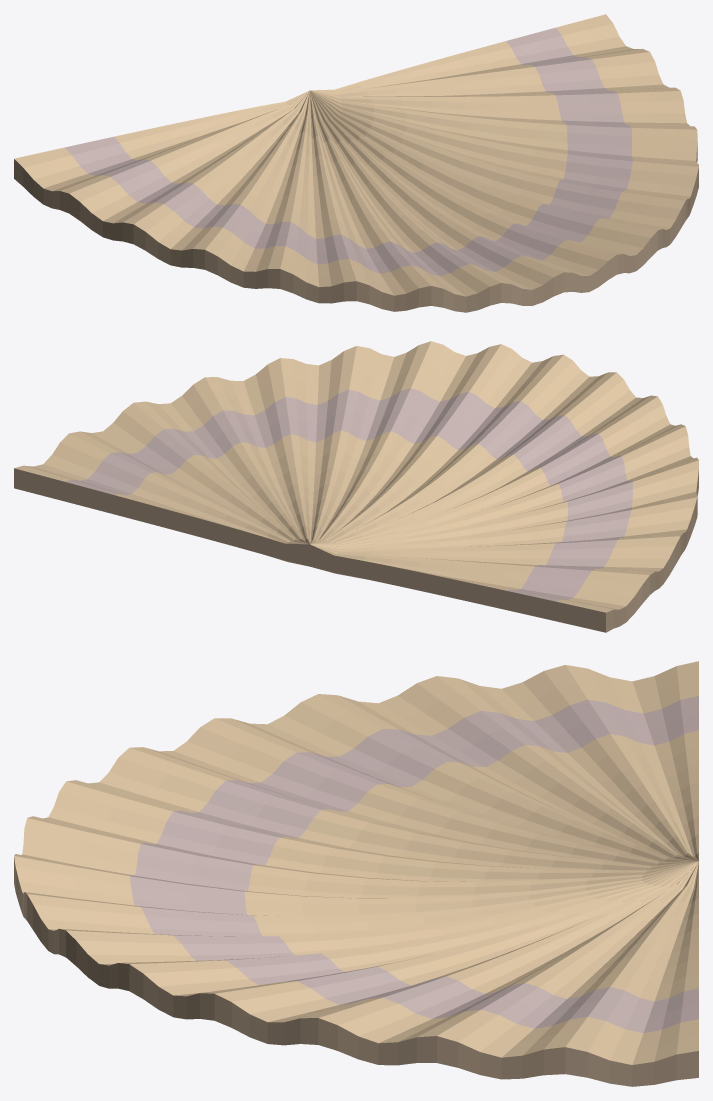
Rendered from strophomena.glb.
3 views of the same model, one above another, from view 1: azimuth 30°, elevation 25°; view 2: azimuth 150°, elevation 25°; view 3: azimuth 270°, elevation 25° (orthographic). The views are drawn at different scales.
Parts seen in each view (by area): view 1: Shallow articulated radial-ribbed valves; view 2: Shallow articulated radial-ribbed valves; view 3: Shallow articulated radial-ribbed valves.
Boxes of the visible parts, x1=… form: Shallow articulated radial-ribbed valves: x1=14, y1=14, x2=698, y2=312; Shallow articulated radial-ribbed valves: x1=14, y1=341, x2=698, y2=632; Shallow articulated radial-ribbed valves: x1=14, y1=661, x2=698, y2=1086.
Size of the model in its own units: 0.0556 by 0.00508 by 0.0413.
